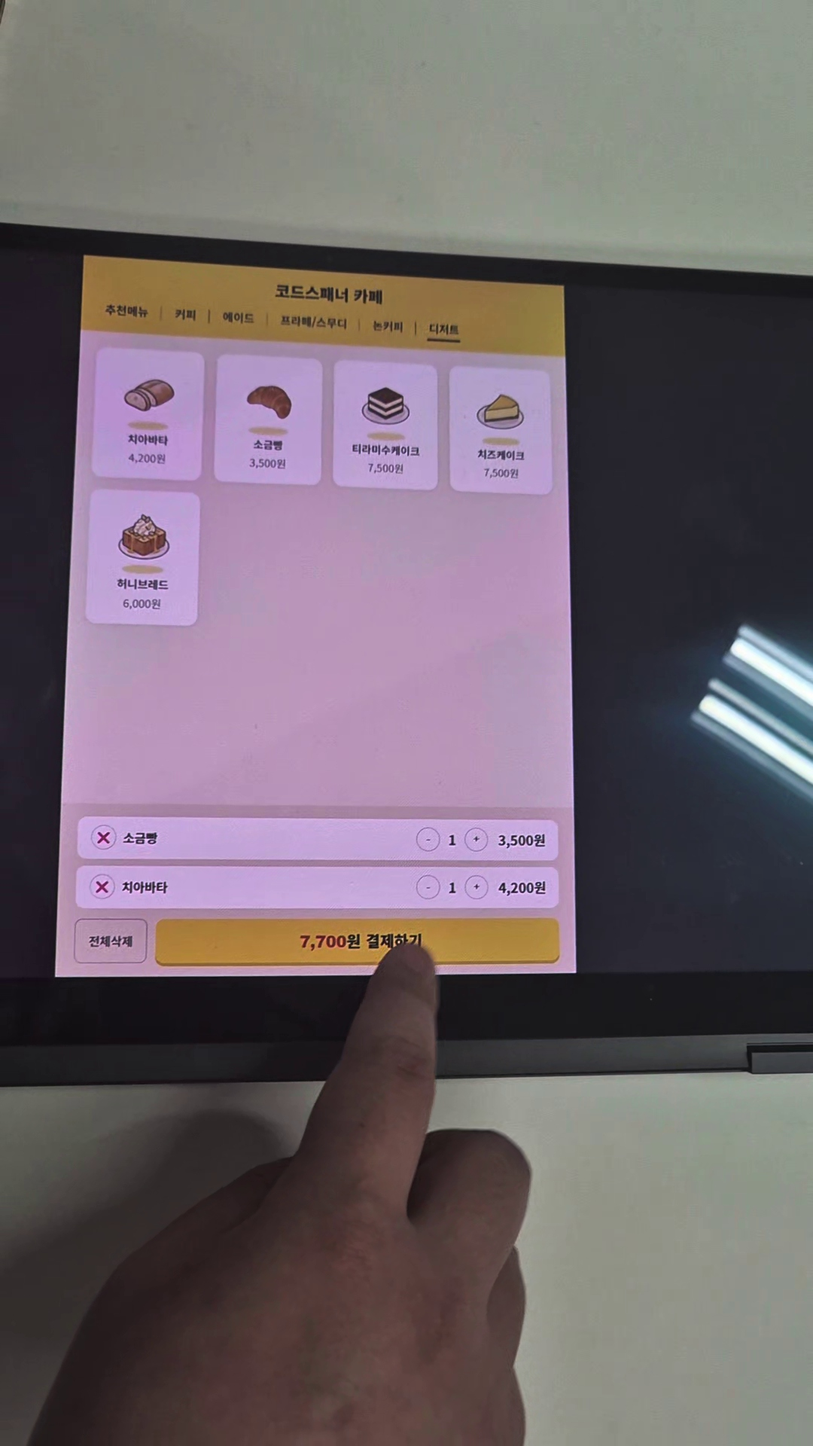action_button: (157, 915, 564, 964), (75, 918, 147, 965)
cart_item: (78, 866, 560, 908), (79, 819, 557, 861)
category_tab: (279, 314, 349, 331), (105, 303, 150, 318), (428, 322, 461, 336), (223, 311, 256, 324), (370, 319, 403, 332), (174, 307, 198, 320)
menu_back: (84, 491, 201, 626), (214, 354, 323, 487), (95, 349, 204, 478), (333, 361, 439, 490), (450, 365, 554, 494)
menu_name: (353, 445, 422, 457), (115, 578, 171, 592), (127, 430, 169, 446), (476, 449, 527, 461), (254, 439, 284, 451)
menu_price: (129, 451, 167, 466), (367, 460, 405, 473), (122, 597, 163, 609), (248, 456, 288, 468), (482, 467, 521, 478)
